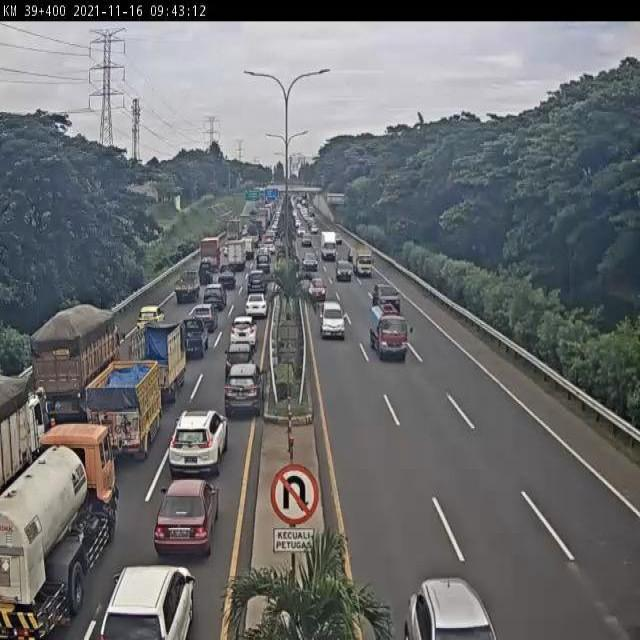car: (98, 565, 194, 640), (156, 478, 220, 558), (171, 409, 229, 476), (225, 365, 266, 420), (182, 319, 208, 361), (224, 342, 254, 378), (320, 299, 345, 337), (228, 315, 258, 345), (371, 283, 401, 312), (137, 305, 163, 335), (202, 282, 228, 310), (192, 304, 218, 331), (244, 294, 269, 318), (216, 264, 238, 289), (307, 276, 327, 303), (246, 270, 267, 294), (195, 260, 214, 285)
small truck: (88, 359, 163, 461), (127, 324, 186, 404), (369, 304, 409, 361), (171, 271, 201, 304)
truck-l-: (29, 305, 127, 415)
truck-m-: (0, 421, 117, 640), (0, 378, 45, 498)
